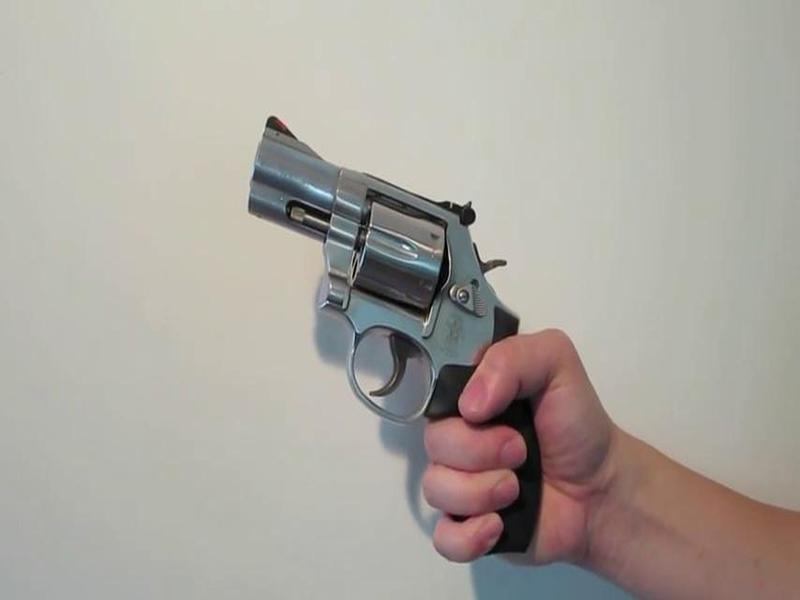Revolver: (218, 108, 601, 564)
